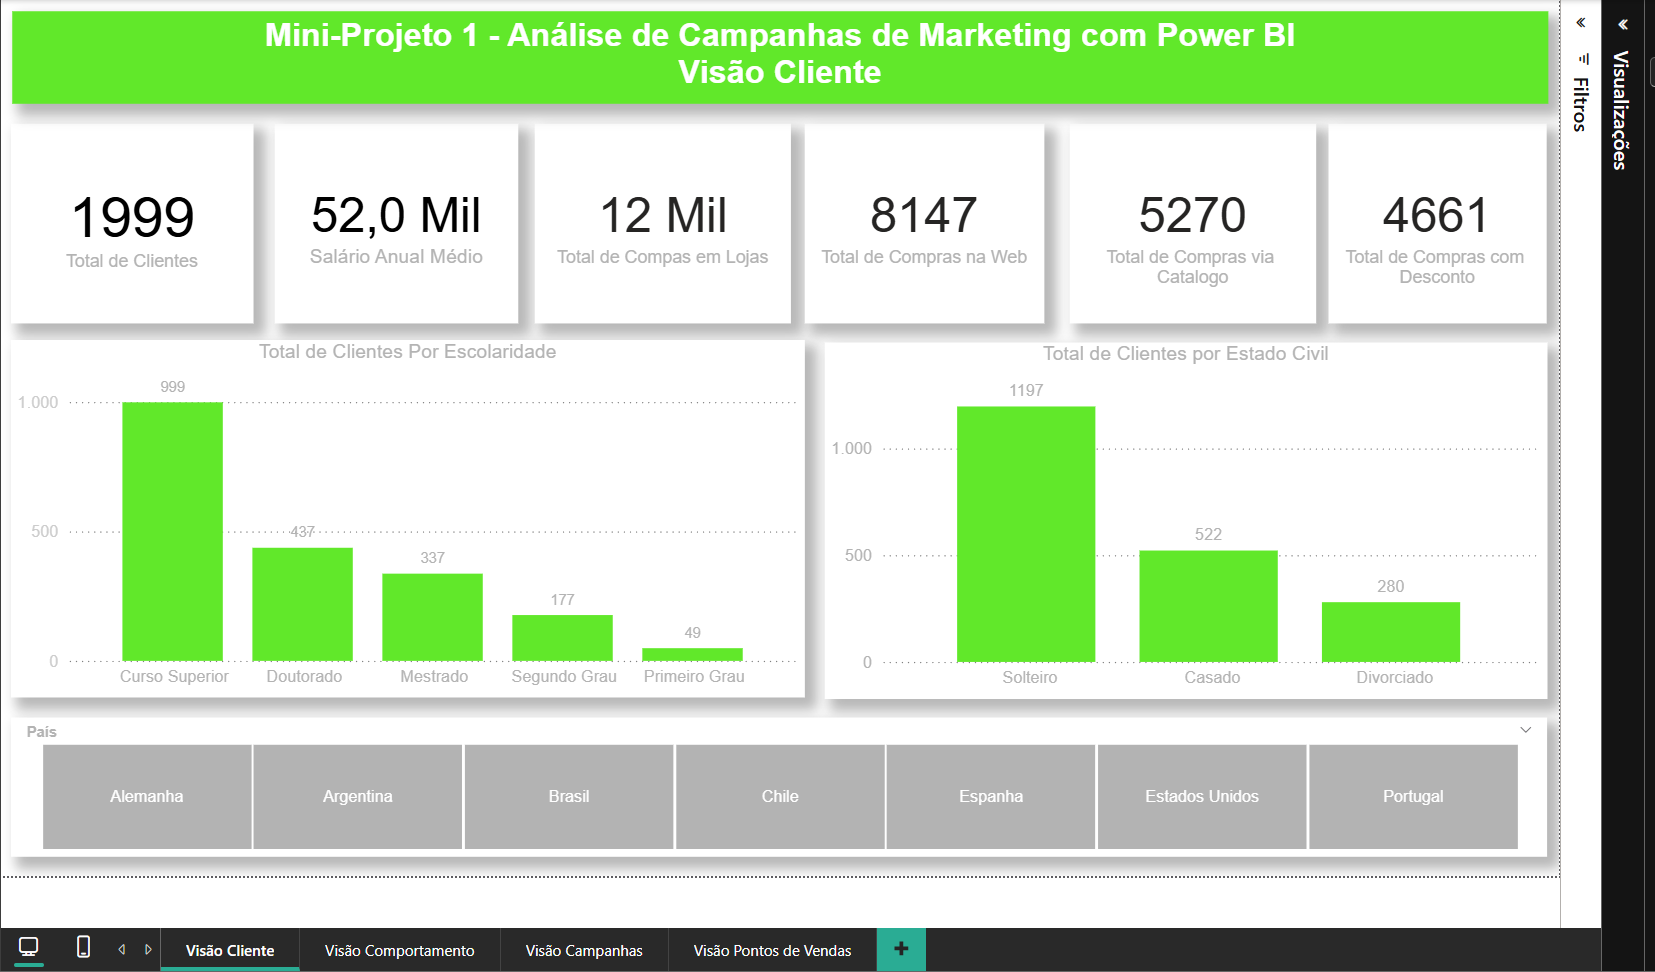

Layout of this report page (visuals, bound fields, positions):
{"tool":"powerbi","page":{"name":" Visão Cliente","canvas":[1280,720],"ordinal":0},"visuals":[{"type":"card","fields":{"Values":["CountNonNull(Dados_Marketing.ID)"]},"box":[8.2,101.8,198.9,163.8],"z":0},{"type":"card","fields":{"Values":["Avg(Dados_Marketing.Salario Anual)"]},"box":[224.7,101.8,200.1,163.8],"z":1000},{"type":"card","fields":{"Values":["Sum(Dados_Marketing.Numero de Compras na Loja)"]},"box":[438.8,101.8,210.6,163.8],"z":2000},{"type":"card","fields":{"Values":["Sum(Dados_Marketing.Numero de Compras na Web)"]},"box":[660,101.8,196.6,163.8],"z":3000},{"type":"card","fields":{"Values":["Sum(Dados_Marketing.Numero de Compras via Catalogo)"]},"box":[877.7,101.8,202.5,163.8],"z":4000},{"type":"card","fields":{"Values":["Sum(Dados_Marketing.Numero de Compras com Desconto)"]},"box":[1090.7,101.8,179,163.8],"z":5000},{"type":"clusteredColumnChart","title":"Total de Clientes Por Escolaridade","fields":{"Category":["Dados_Marketing.Escolaridade"],"Y":["CountNonNull(Dados_Marketing.ID)"]},"box":[8.2,279.7,651.8,293.7],"z":6000},{"type":"clusteredColumnChart","title":"Total de Clientes por Estado Civil","fields":{"Y":["CountNonNull(Dados_Marketing.ID)"],"Category":["Dados_Marketing.Estado Civil"]},"box":[676.4,280.9,593.3,292.6],"z":7000},{"type":"slicer","fields":{"Values":["Dados_Marketing.Pais"]},"box":[8.2,589.8,1261.5,114.7],"z":8000},{"type":"textbox","box":[9.4,9.4,1261.5,76.1],"z":9000}]}

Visuals, with their boxes on the page's 1280x720 design canvas (x1, y1, x2, y2). These are canvas units, not pixel positions in the 1655x972 screenshot, which may show the page scaled, cropped or inside an application window:
card - CountNonNull(Dados_Marketing.ID): 8:102:207:266
card - Avg(Dados_Marketing.Salario Anual): 225:102:425:266
card - Sum(Dados_Marketing.Numero de Compras na Loja): 439:102:649:266
card - Sum(Dados_Marketing.Numero de Compras na Web): 660:102:857:266
card - Sum(Dados_Marketing.Numero de Compras via Catalogo): 878:102:1080:266
card - Sum(Dados_Marketing.Numero de Compras com Desconto): 1091:102:1270:266
"Total de Clientes Por Escolaridade" clusteredColumnChart: 8:280:660:573
"Total de Clientes por Estado Civil" clusteredColumnChart: 676:281:1270:574
slicer - Dados_Marketing.Pais: 8:590:1270:704
textbox: 9:9:1271:86
